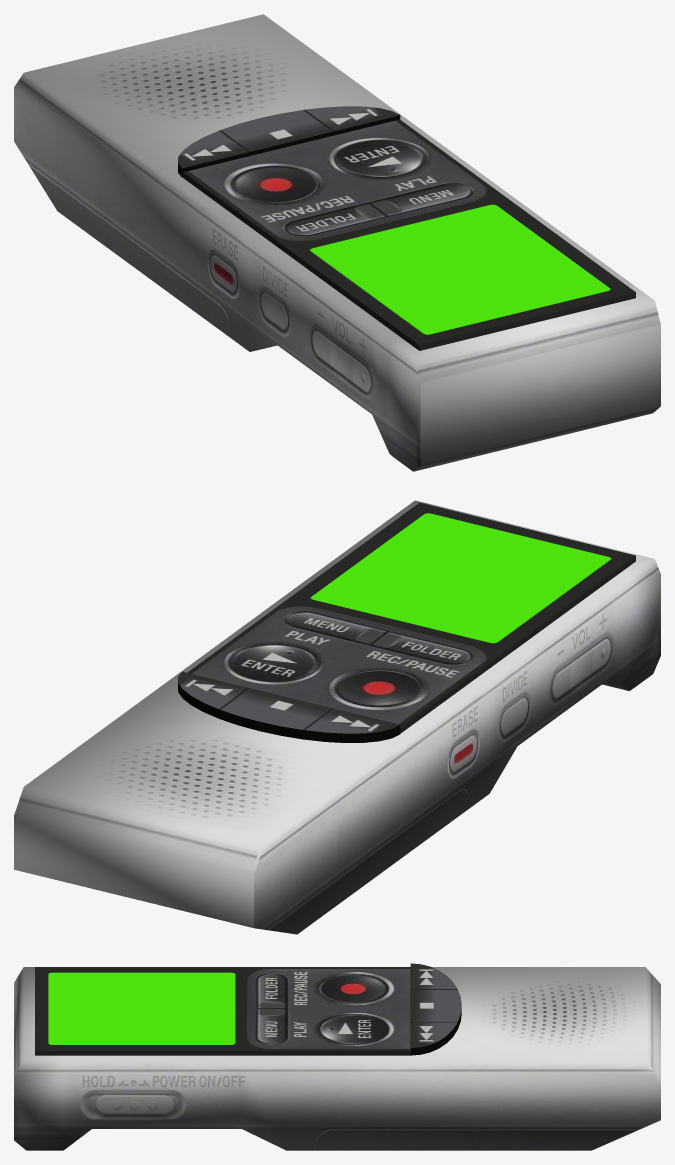
Rendered from dictofon.gltf.
3 views of the same model, one above another, from view 1: azimuth 30°, elevation 25°; view 2: azimuth 150°, elevation 25°; view 3: azimuth 270°, elevation 25° (orthographic). The views are drawn at different scales.
Visible parts, largest first — view 1: Cube, Cube.001, Cylinder; view 2: Cube, Cube.001, Cylinder; view 3: Cube, Cube.001, Cylinder.
Part boxes in pixels (x1,y1,x2,y2): Cube: [14, 14, 660, 471]; Cube.001: [183, 119, 635, 350]; Cylinder: [178, 106, 400, 177]; Cube: [14, 500, 660, 934]; Cube.001: [187, 502, 635, 733]; Cylinder: [178, 671, 400, 742]; Cube: [14, 967, 660, 1150]; Cube.001: [35, 967, 410, 1055]; Cylinder: [410, 963, 461, 1055].
Size of the model in its own units: 1.36 by 0.6703 by 4.
Materials: 3 (3 with a texture image).
